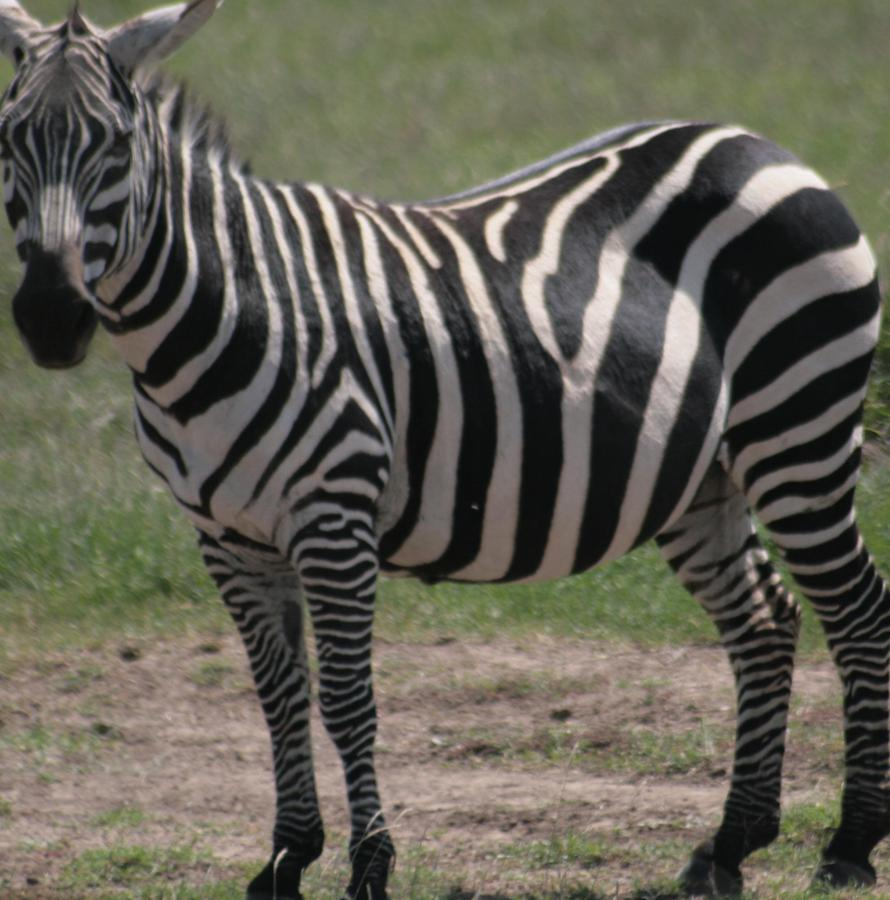zebra_plains: (166, 166, 890, 523)
